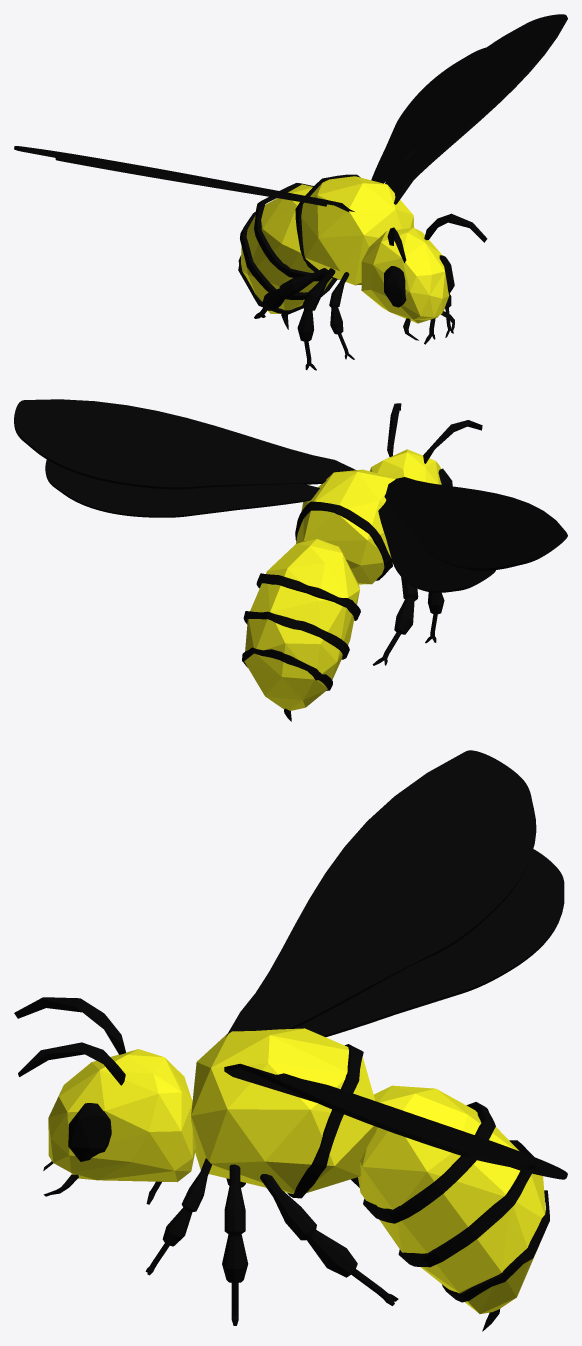
Rendered from bee.fbx.
3 views of the same model, one above another, from view 1: azimuth 30°, elevation 25°; view 2: azimuth 150°, elevation 25°; view 3: azimuth 270°, elevation 25° (orthographic). The views are drawn at different scales.
Visible parts, largest first — view 1: BezierCurve.011, Body.002, Cube.005, Cube.006, BezierCurve.012, BezierCurve.009, Cylinder.023, Cylinder.025, Circle.007, Circle.006, BezierCurve.010, Sphere.006 (+3 smaller); view 2: BezierCurve.011, Cube.006, BezierCurve.009, BezierCurve.012, Body.002, BezierCurve.010, Cube.005, Circle.004, Circle.006, Circle.007, Cylinder.025, Circle.005 (+2 smaller); view 3: BezierCurve.009, Body.002, Cube.006, Cube.005, BezierCurve.010, BezierCurve.011, Cylinder.024, Cylinder.022, Circle.006, Circle.007, Sphere.005, Circle.004 (+5 smaller).
Boxes of the visible parts, x1=… form: BezierCurve.011: x1=385, y1=14, x2=567, y2=204; Body.002: x1=295, y1=176, x2=414, y2=285; Cube.005: x1=361, y1=227, x2=449, y2=323; Cube.006: x1=241, y1=184, x2=332, y2=313; BezierCurve.012: x1=371, y1=47, x2=485, y2=183; BezierCurve.009: x1=14, y1=146, x2=354, y2=211; Cylinder.023: x1=297, y1=268, x2=335, y2=370; Cylinder.025: x1=254, y1=268, x2=328, y2=318; Circle.007: x1=254, y1=183, x2=322, y2=281; Circle.006: x1=240, y1=212, x2=337, y2=299; BezierCurve.010: x1=55, y1=158, x2=327, y2=206; Sphere.006: x1=384, y1=266, x2=406, y2=307; BezierCurve.011: x1=14, y1=399, x2=356, y2=489; Cube.006: x1=244, y1=539, x2=359, y2=710; BezierCurve.009: x1=384, y1=477, x2=567, y2=570; BezierCurve.012: x1=45, y1=460, x2=319, y2=517; Body.002: x1=296, y1=469, x2=395, y2=584; BezierCurve.010: x1=378, y1=500, x2=495, y2=592; Cube.005: x1=370, y1=449, x2=441, y2=484; Circle.004: x1=295, y1=501, x2=392, y2=580; Circle.006: x1=243, y1=611, x2=349, y2=659; Circle.007: x1=256, y1=573, x2=360, y2=620; Cylinder.025: x1=372, y1=577, x2=418, y2=665; Circle.005: x1=242, y1=647, x2=332, y2=690; BezierCurve.009: x1=225, y1=750, x2=536, y2=1037; Body.002: x1=191, y1=1028, x2=377, y2=1193; Cube.006: x1=358, y1=1085, x2=545, y2=1313; Cube.005: x1=48, y1=1049, x2=195, y2=1182; BezierCurve.010: x1=295, y1=849, x2=564, y2=1037; BezierCurve.011: x1=224, y1=1063, x2=536, y2=1169; Cylinder.024: x1=260, y1=1174, x2=398, y2=1305; Cylinder.022: x1=222, y1=1164, x2=248, y2=1325; Circle.006: x1=398, y1=1140, x2=533, y2=1267; Circle.007: x1=363, y1=1102, x2=495, y2=1223; Sphere.005: x1=68, y1=1103, x2=111, y2=1161; Circle.004: x1=287, y1=1044, x2=363, y2=1198.
Size of the model in its own units: 1446 by 633 by 835.
